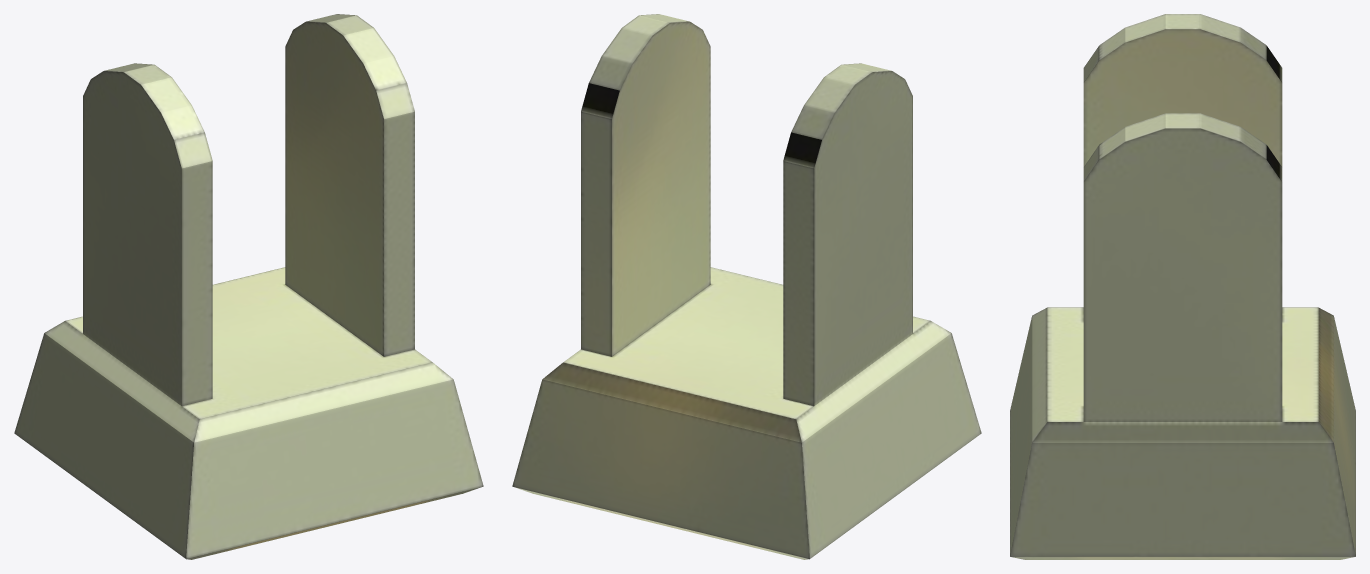
Rendered from autogun_tower.obj.
The picture shows the model from 3 angles, left to right: view 1: azimuth 30°, elevation 25°; view 2: azimuth 150°, elevation 25°; view 3: azimuth 270°, elevation 25°; orthographic projection.
Visible parts, largest first — view 1: Box031; view 2: Box031; view 3: Box031.
Boxes of the visible parts, box(x1,y1,x2,y2) form: Box031: box(14, 14, 483, 559); Box031: box(512, 14, 981, 559); Box031: box(1010, 14, 1355, 559).
Size of the model in its own units: 13.1 by 17.64 by 13.1.
1 material, 1 textured.
